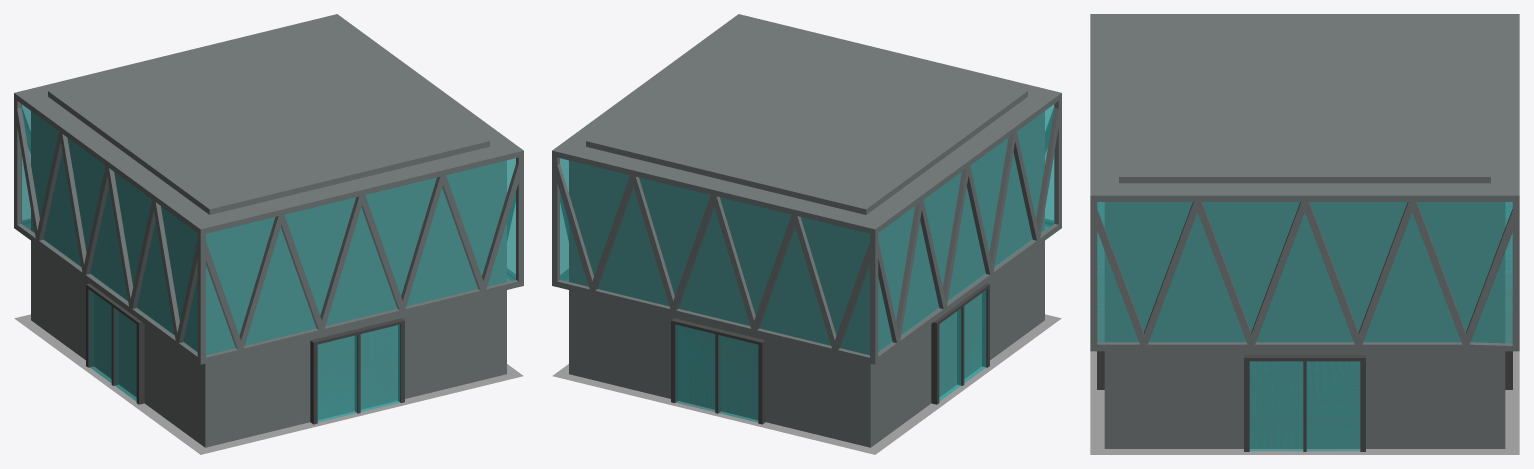
The model's file is modern-medium.fbx.
The picture shows the model from 3 angles, left to right: view 1: azimuth 30°, elevation 25°; view 2: azimuth 150°, elevation 25°; view 3: azimuth 270°, elevation 25°; orthographic projection. The views are drawn at different scales.
Parts seen in each view (by area): view 1: modern-medium; view 2: modern-medium; view 3: modern-medium.
Boxes of the visible parts, box(x1,y1,x2,y2) form: modern-medium: box(14, 14, 523, 454); modern-medium: box(552, 14, 1061, 454); modern-medium: box(1090, 14, 1519, 454).
Bounding box in the file's own units: 300 × 205 × 300.
